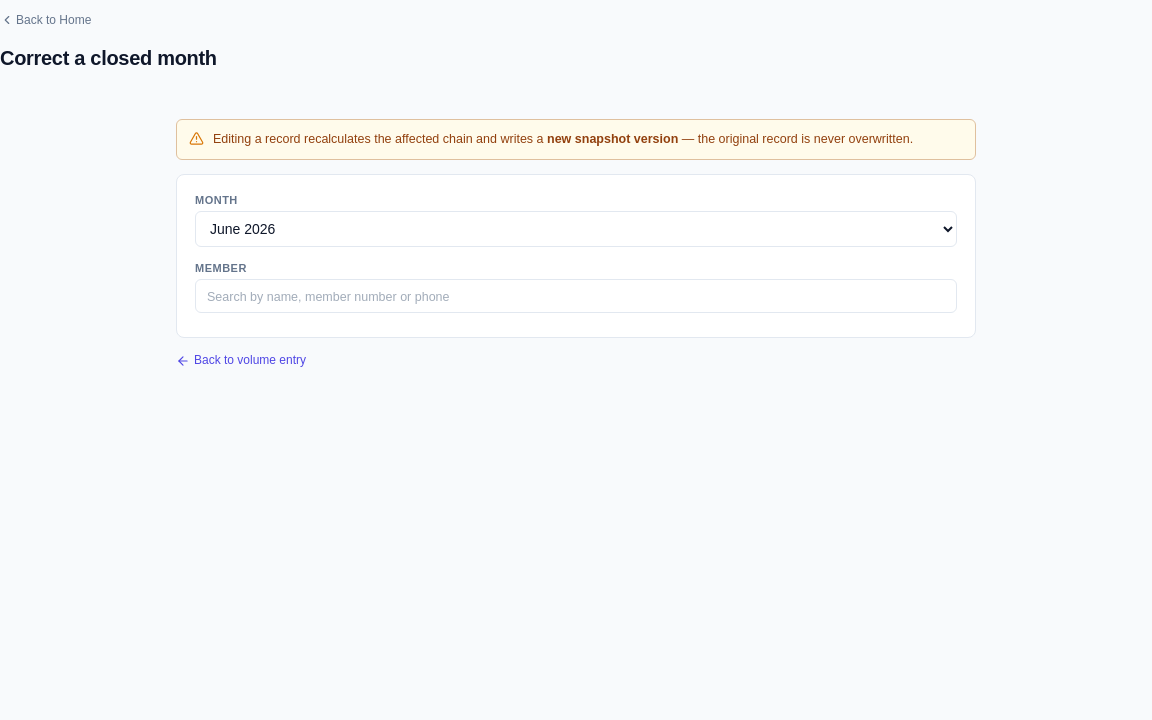
Test case: CorrectionPanel › edits an existing record via the row's Edit button
This screenshot has width=1152, height=720.
In the field labelled "Member": (576, 296) [195,279,957,313], type "Asha"
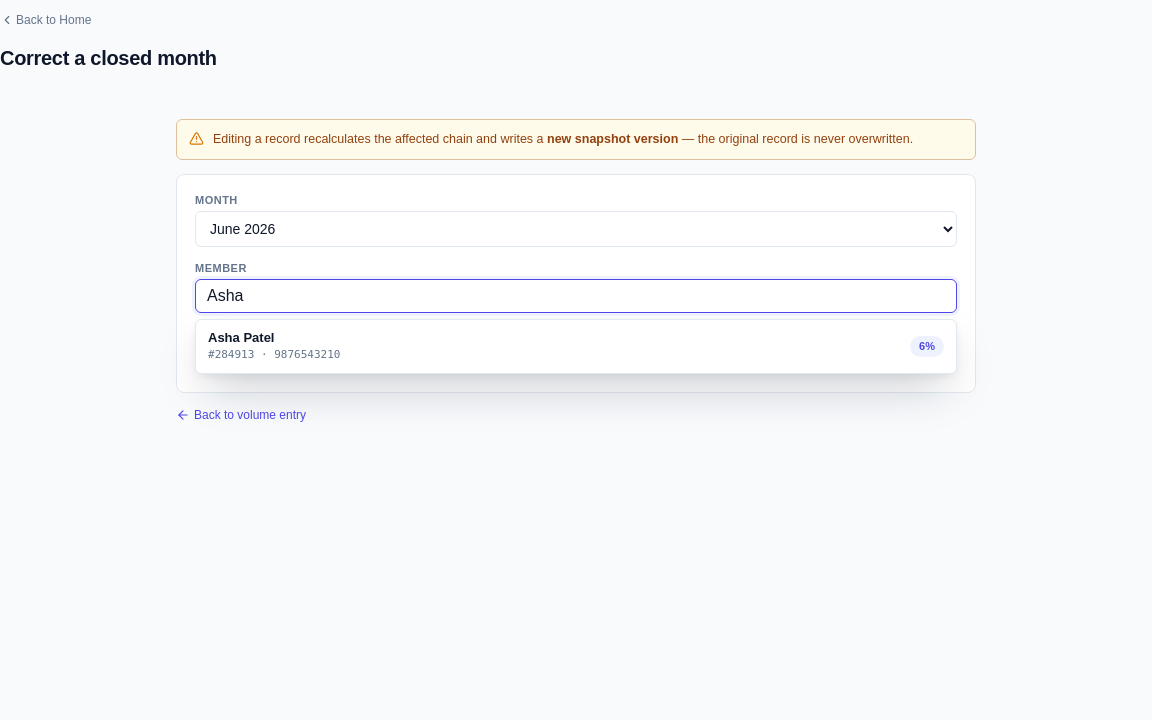
Click the text "Asha Patel": (241, 338) [208,329,274,347]
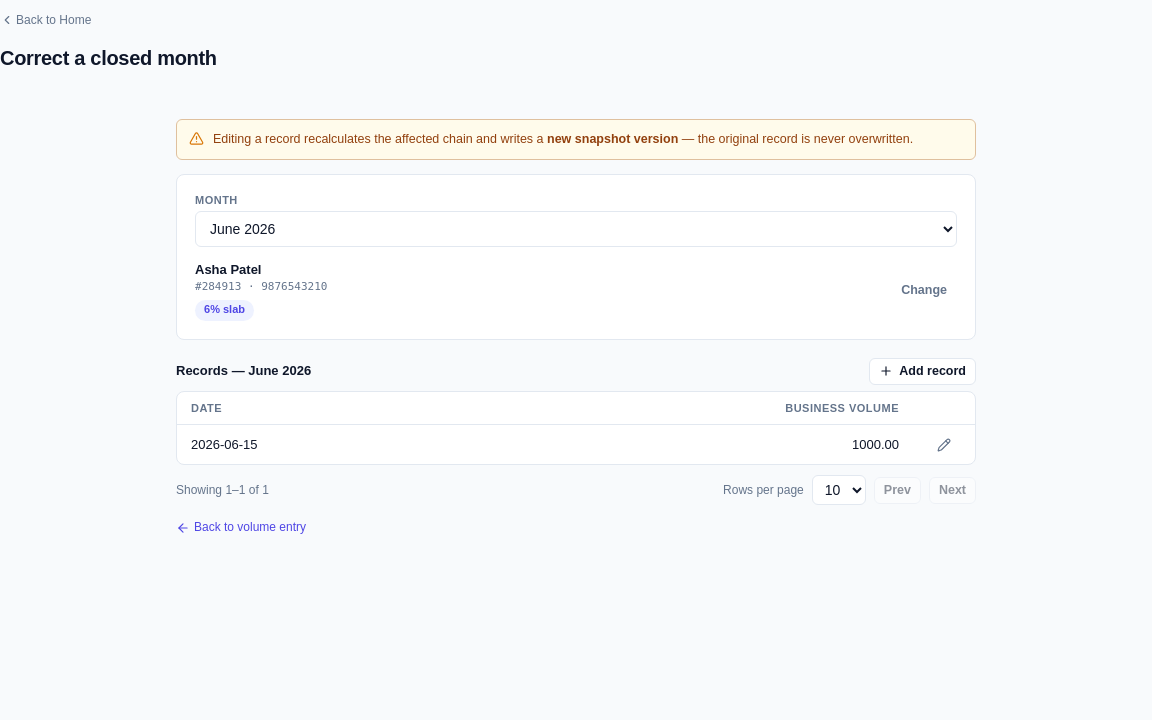
expect the text "2026-06-15" is shown: met, box [177,424,471,464]
Click the button named "Edit record": (944, 445) [927,431,961,458]
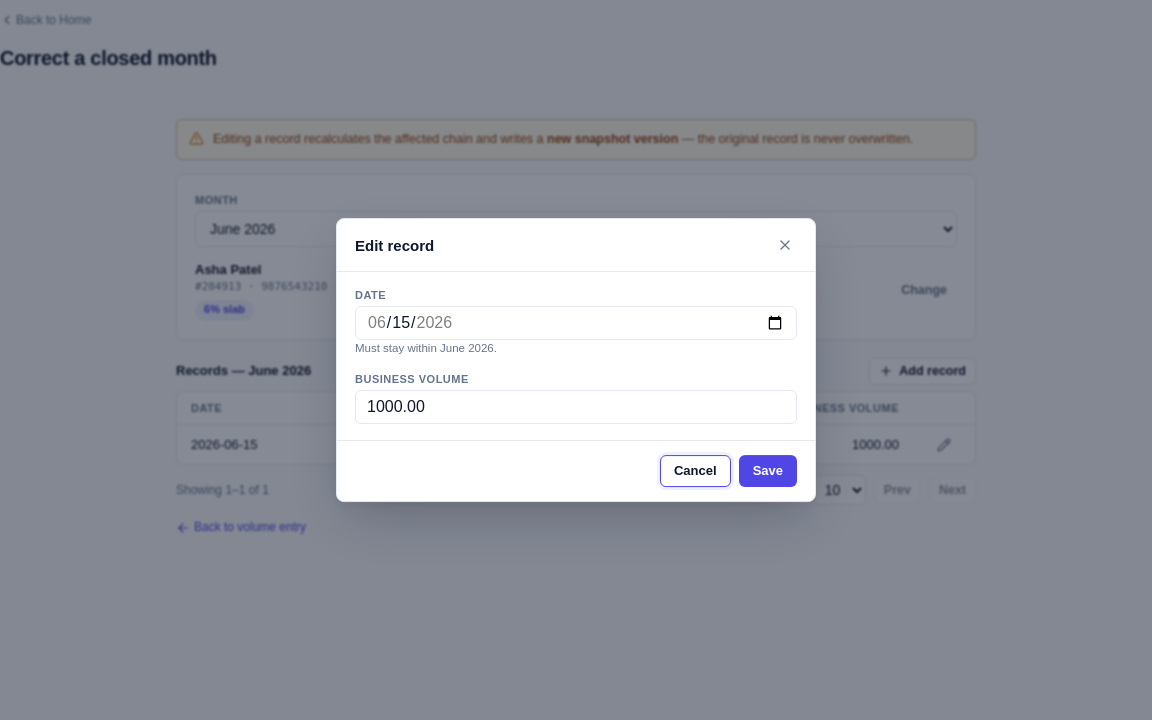
expect the heading "Edit record" is shown: met, box [355,235,434,256]
expect the field labelled "Business Volume" holds "1000.00": met
Replace the text in the field labelled "Business Volume" with "1500.00": (576, 407) [355,390,797,424]
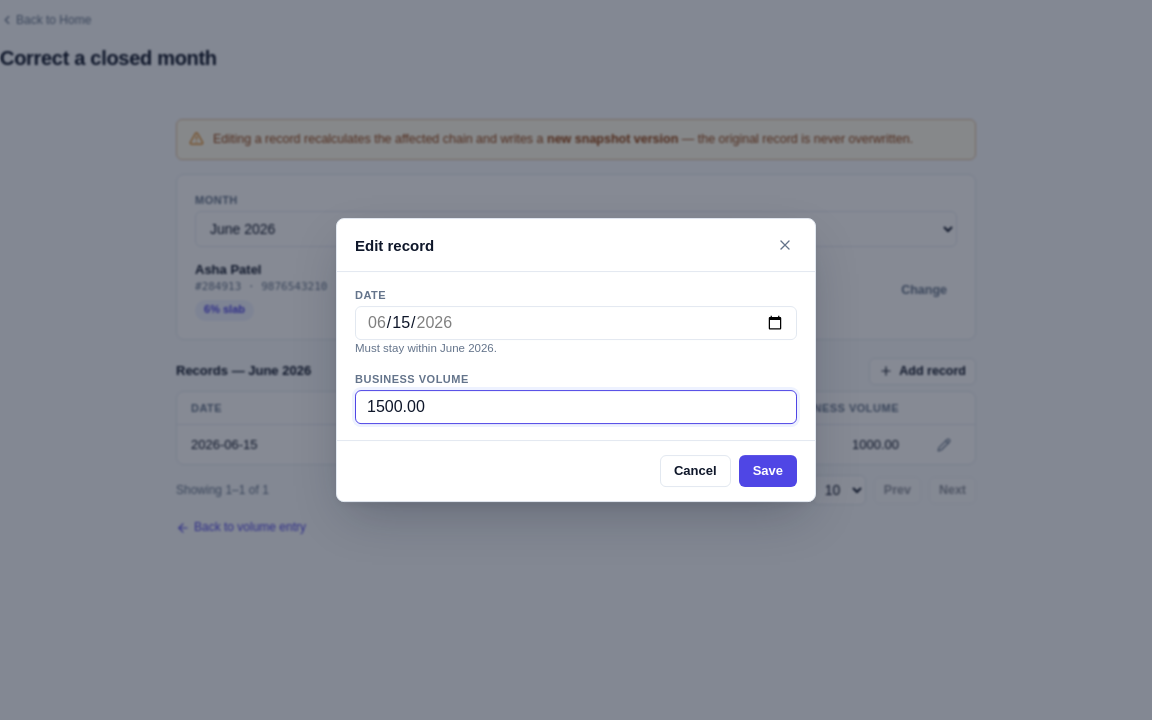
Click the button "Save": (768, 471) [739,455,797,487]
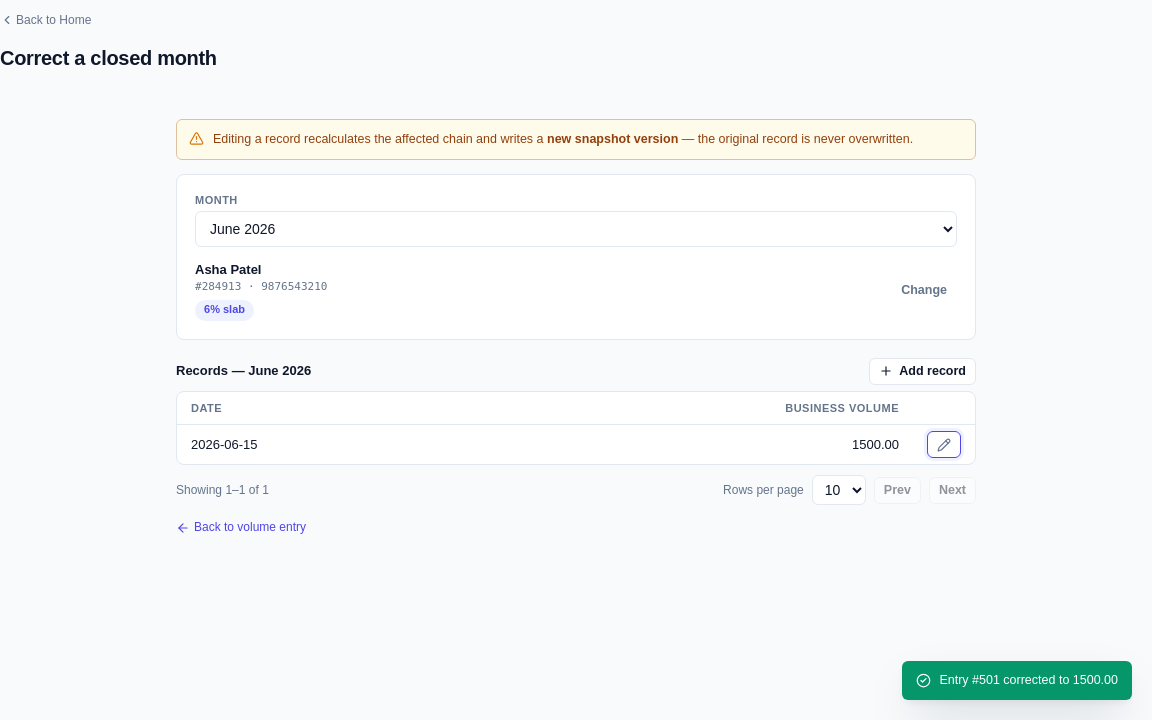
expect the heading "Entry #501 corrected to 1500.00" is shown: met, box [939,671,1118,690]
